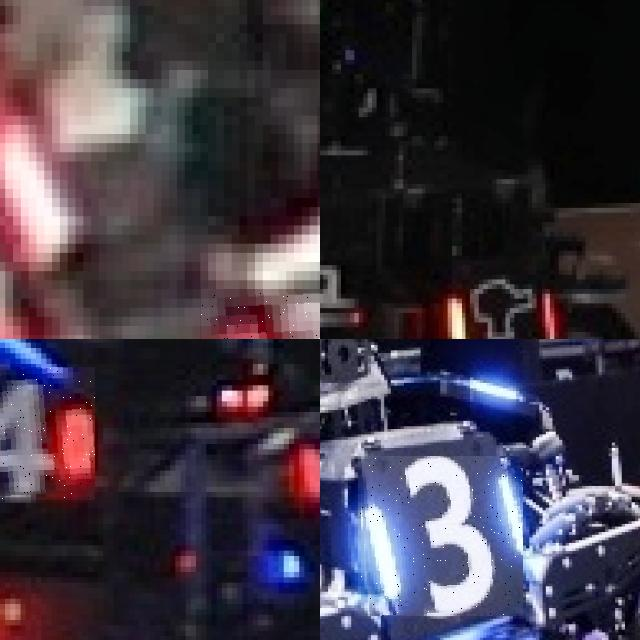B3: (358, 456, 523, 616)
R4: (0, 366, 95, 500)
Rs: (443, 265, 563, 339)
